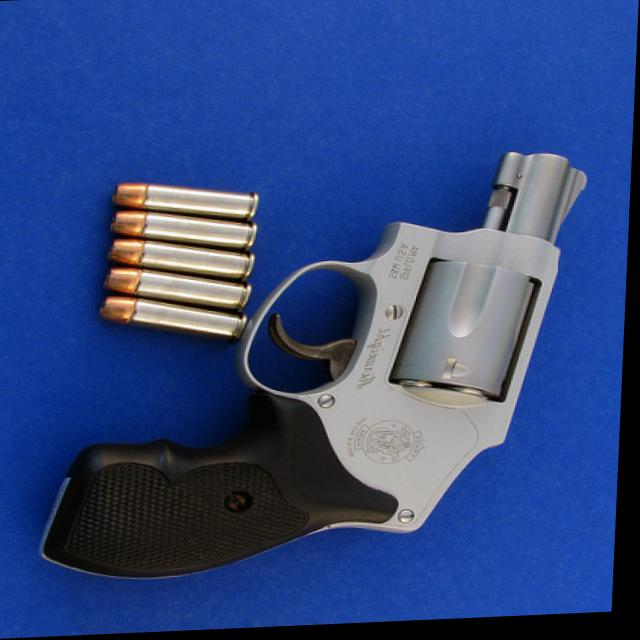handgun: (45, 157, 595, 584)
